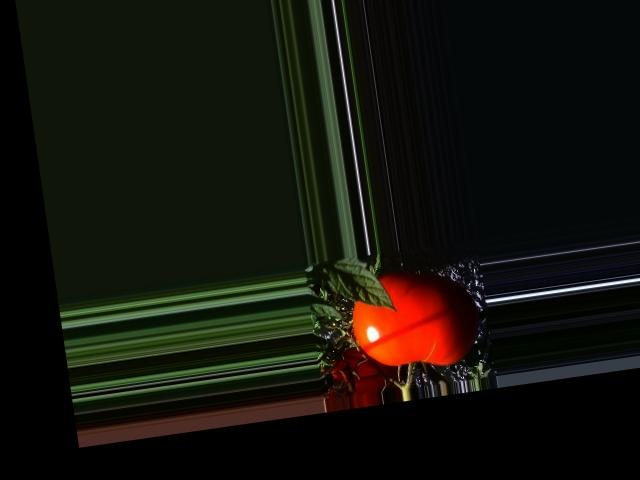tomato: (345, 261, 484, 377)
